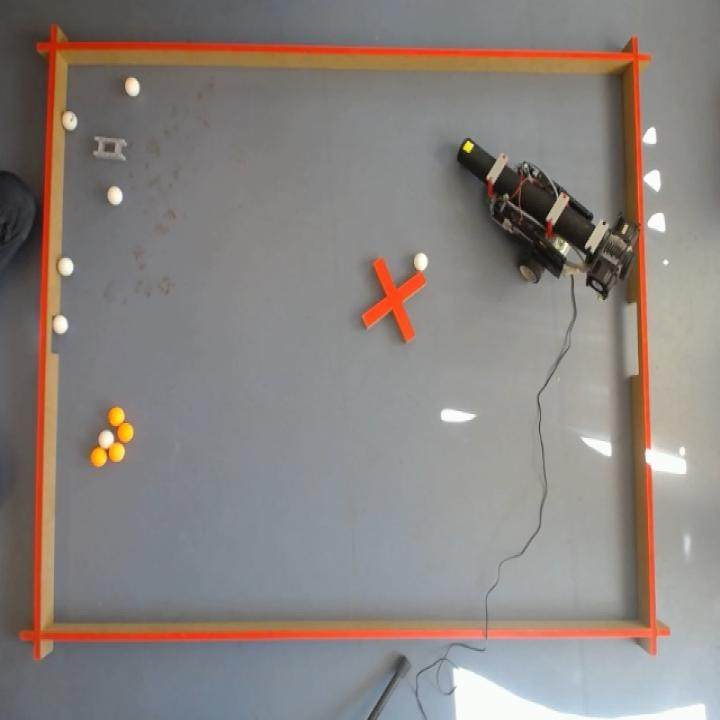orange: (90, 447, 106, 467), (117, 423, 133, 442), (109, 407, 124, 426), (110, 444, 124, 462)
robot: (457, 138, 638, 300)
robot-front: (461, 139, 476, 156)
white: (103, 183, 125, 210), (122, 74, 142, 103), (56, 256, 77, 280), (61, 109, 80, 135), (412, 250, 430, 274), (52, 314, 70, 336), (98, 431, 114, 448)
